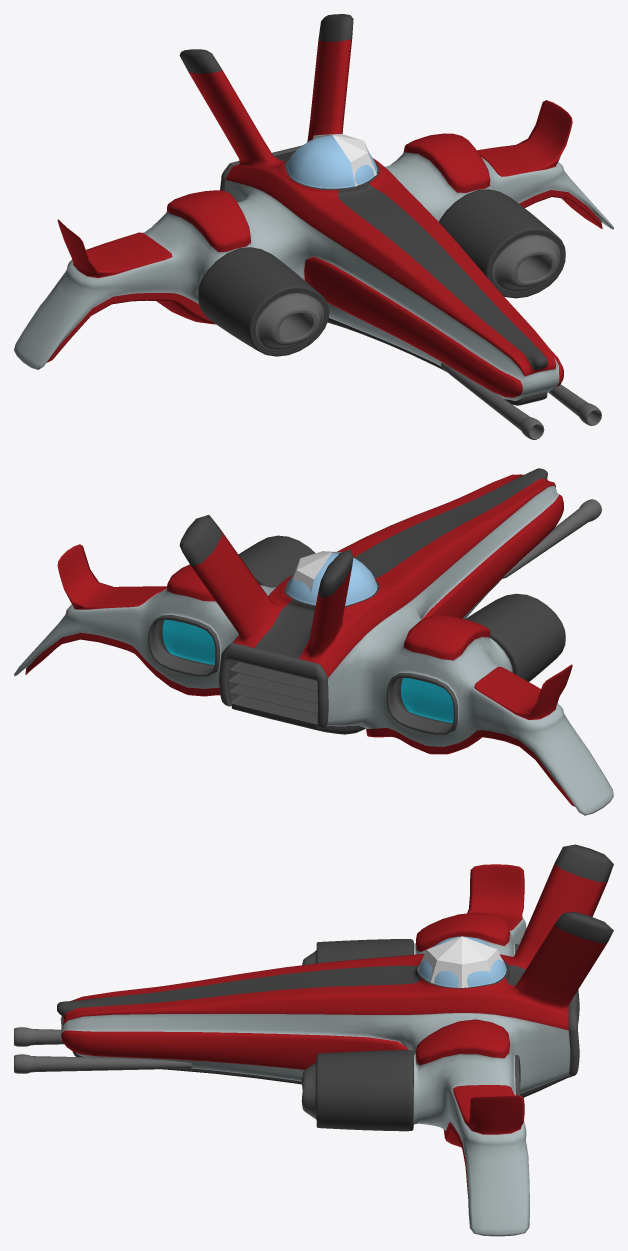
File: SpaceShipModel.fbx
3 renders of one model, top to bottom at view 1: azimuth 30°, elevation 25°; view 2: azimuth 150°, elevation 25°; view 3: azimuth 270°, elevation 25°, orthographic. The views are drawn at different scales.
Visible parts, largest first — view 1: Cube, Sphere; view 2: Cube, Sphere; view 3: Cube, Sphere.
Part boxes in pixels (x1,y1,x2,y2): Cube: (14, 14, 613, 439); Sphere: (313, 133, 376, 186); Cube: (14, 468, 613, 815); Sphere: (292, 551, 341, 603); Cube: (14, 844, 613, 1236); Sphere: (417, 936, 506, 987).
Size of the model in its own units: 809 by 309 by 754.
